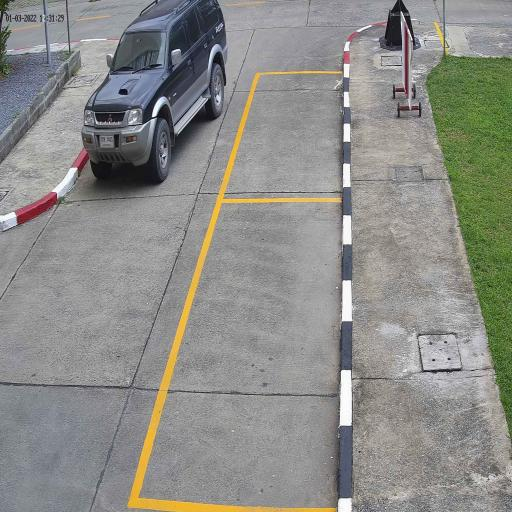car: (81, 0, 227, 175)
